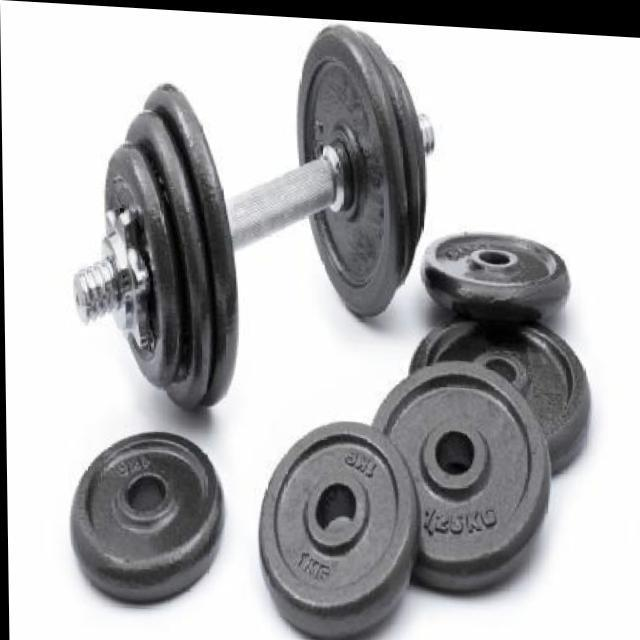barbell: (63, 126, 188, 401)
